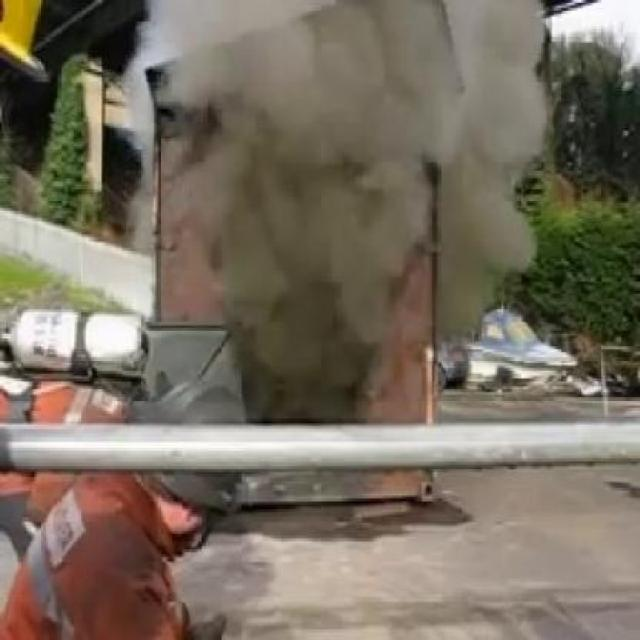smoke: (196, 8, 384, 338), (338, 2, 534, 300)
